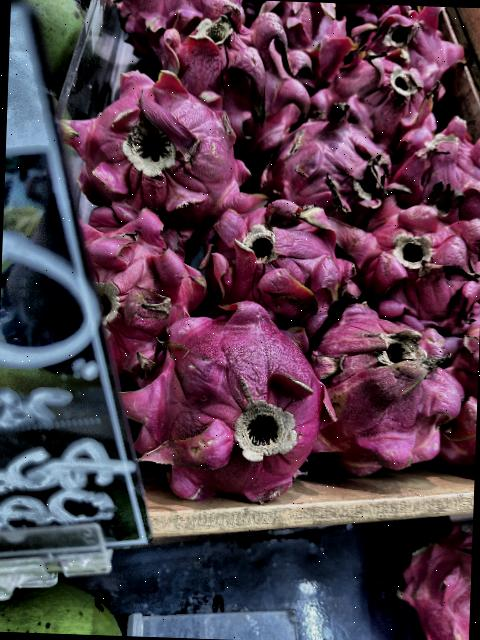buah-naga-matang: (140, 310, 324, 502), (304, 306, 465, 476), (66, 84, 240, 222), (150, 6, 311, 153), (338, 196, 480, 331), (214, 197, 362, 321), (69, 214, 197, 353), (256, 120, 389, 220), (390, 123, 480, 224), (346, 3, 454, 84), (341, 55, 430, 139)
